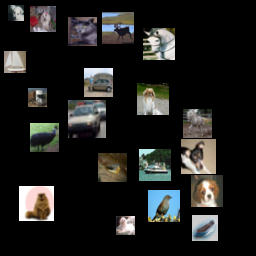airplane: (9, 25, 44, 60), (211, 146, 243, 178), (4, 68, 26, 90), (178, 27, 200, 49), (197, 200, 216, 219), (138, 69, 154, 85)
automobile: (41, 98, 67, 124), (149, 14, 165, 30)
bird: (48, 65, 74, 91), (94, 128, 116, 150)
cat: (204, 23, 242, 61), (164, 107, 199, 142)
deer: (87, 185, 113, 211), (104, 160, 123, 179)
dog: (116, 16, 148, 48), (25, 204, 51, 230)
frog: (72, 16, 107, 51)
